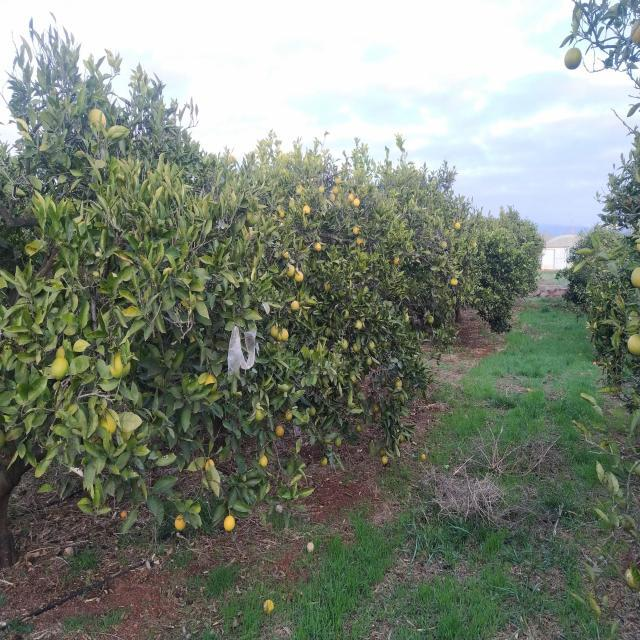Jeruk Belum Matang: (110, 353, 130, 380), (564, 46, 582, 70), (52, 358, 69, 380), (100, 412, 116, 434), (627, 333, 640, 356), (204, 375, 217, 393), (630, 266, 640, 288), (246, 212, 258, 228), (286, 264, 295, 278), (254, 409, 264, 421), (270, 326, 280, 338), (290, 302, 300, 312), (284, 410, 292, 420), (334, 438, 342, 448), (341, 308, 349, 318), (355, 320, 363, 330), (309, 406, 316, 416), (353, 342, 360, 352), (320, 458, 328, 466), (373, 404, 379, 414), (366, 356, 372, 366), (368, 340, 374, 350), (342, 340, 348, 350), (324, 282, 331, 290), (427, 316, 434, 324), (451, 278, 458, 286), (356, 423, 362, 432), (399, 433, 405, 442), (380, 448, 386, 456), (382, 456, 388, 464), (396, 380, 402, 388), (350, 374, 356, 382), (296, 188, 302, 195), (454, 222, 460, 229), (442, 241, 447, 249), (324, 438, 330, 444), (405, 314, 409, 323), (472, 241, 477, 248), (320, 186, 324, 193)
Jeruk Sudah Matang: (89, 108, 106, 128), (630, 19, 640, 46), (174, 514, 187, 530), (224, 516, 235, 532), (258, 455, 268, 467), (205, 459, 215, 471), (294, 271, 304, 283), (280, 328, 288, 342), (276, 426, 284, 436), (356, 236, 364, 246), (314, 242, 322, 251), (352, 226, 360, 235), (303, 205, 311, 213), (332, 186, 338, 194), (335, 176, 341, 184), (348, 194, 354, 202), (279, 211, 285, 218), (354, 198, 359, 206), (330, 194, 334, 202), (284, 252, 289, 258), (394, 258, 398, 264)
